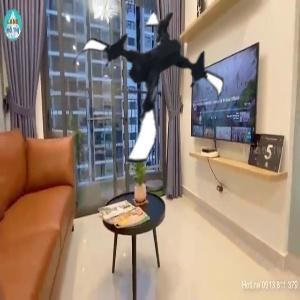drone: (67, 5, 229, 167)
